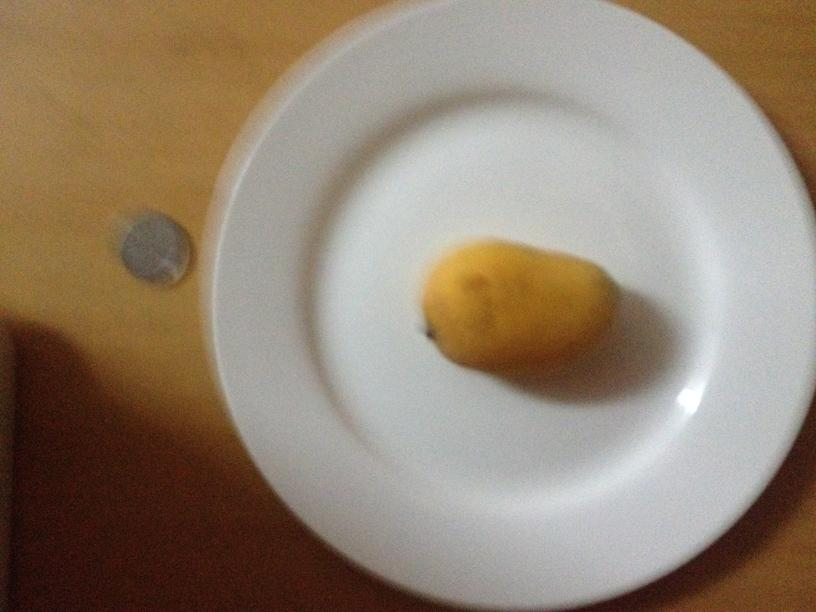coin: (120, 217, 191, 286)
mango: (425, 240, 616, 369)
